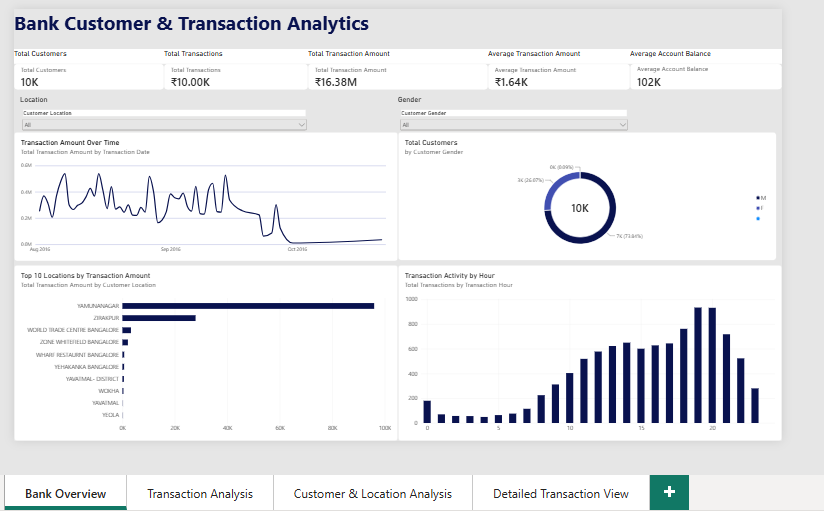

What the dashboard file says about the page in this screenshot:
{"tool":"powerbi","page":{"name":"Bank Overview","canvas":[1920,1080],"ordinal":0},"visuals":[{"type":"cardVisual","title":"Total Transaction Amount","fields":{"Data":["bank_transactions.Total Transaction Amount"]},"box":[735,100,450,102.5],"z":0},{"type":"cardVisual","title":"Total Transactions","fields":{"Data":["bank_transactions.Total Transactions"]},"box":[375,100,360,102.5],"z":1000},{"type":"cardVisual","title":"Average Transaction Amount","fields":{"Data":["bank_transactions.Average Transaction Amount"]},"box":[1185,100,355,102.5],"z":2000},{"type":"cardVisual","title":"Average Account Balance","fields":{"Data":["bank_transactions.Average Account Balance"]},"box":[1540,100,380,102.5],"z":3000},{"type":"lineChart","title":"Transaction Amount Over Time","fields":{"Category":["bank_transactions.TransactionDate"],"Y":["bank_transactions.Total Transaction Amount"]},"box":[0,307.1,960,322.9],"z":4000},{"type":"donutChart","fields":{"Category":["bank_transactions.CustGender"],"Y":["bank_transactions.Total Customers"]},"box":[960,308.6,945.7,321.4],"z":5000},{"type":"clusteredBarChart","title":"Top 10 Locations by Transaction Amount","fields":{"Category":["bank_transactions.CustLocation"],"Y":["bank_transactions.Total Transaction Amount"]},"box":[0,640,960,440],"z":6000},{"type":"clusteredColumnChart","title":"Transaction Activity by Hour","fields":{"Category":["bank_transactions.Transaction Hour"],"Y":["bank_transactions.Total Transactions"]},"box":[960,640,960,440],"z":7000},{"type":"slicer","title":"Location","fields":{"Values":["bank_transactions.CustLocation"]},"box":[14,216,722,92],"z":8000},{"type":"slicer","title":"Gender","fields":{"Values":["bank_transactions.Customer Gender"]},"box":[960,216,580,92],"z":9000},{"type":"cardVisual","title":"Total Customers","fields":{"Data":["bank_transactions.Total Customers"]},"box":[0,100,375,102.5],"z":10000},{"type":"textbox","box":[0,0,1920,100],"z":11000}]}

Visuals, with their boxes on the page's 1920x1080 design canvas (x1, y1, x2, y2). These are canvas units, not pixel positions in the 824x511 screenshot, which may show the page scaled, cropped or inside an application window:
"Total Transaction Amount" cardVisual: l=735, t=100, r=1185, b=202
"Total Transactions" cardVisual: l=375, t=100, r=735, b=202
"Average Transaction Amount" cardVisual: l=1185, t=100, r=1540, b=202
"Average Account Balance" cardVisual: l=1540, t=100, r=1920, b=202
"Transaction Amount Over Time" lineChart: l=0, t=307, r=960, b=630
donutChart - bank_transactions.CustGender x bank_transactions.Total Customers: l=960, t=309, r=1906, b=630
"Top 10 Locations by Transaction Amount" clusteredBarChart: l=0, t=640, r=960, b=1080
"Transaction Activity by Hour" clusteredColumnChart: l=960, t=640, r=1920, b=1080
"Location" slicer: l=14, t=216, r=736, b=308
"Gender" slicer: l=960, t=216, r=1540, b=308
"Total Customers" cardVisual: l=0, t=100, r=375, b=202
textbox: l=0, t=0, r=1920, b=100
